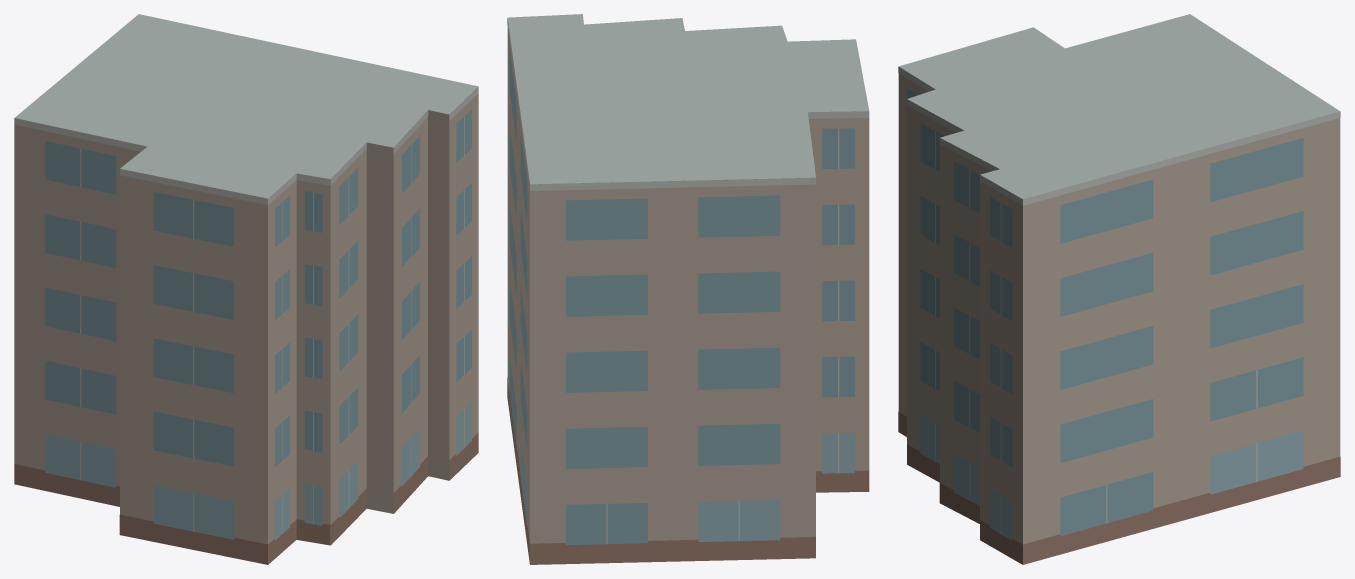
Rendered from survey-upis-32884971.glb.
3 views of the same model, side by side, from view 1: azimuth 30°, elevation 25°; view 2: azimuth 150°, elevation 25°; view 3: azimuth 270°, elevation 25° (orthographic). The views are drawn at different scales.
Visible parts, largest first — view 1: survey-upis-32884971.tmp; view 2: survey-upis-32884971.tmp; view 3: survey-upis-32884971.tmp.
Boxes of the visible parts, x1=… form: survey-upis-32884971.tmp: x1=14, y1=14, x2=478, y2=564; survey-upis-32884971.tmp: x1=507, y1=14, x2=869, y2=564; survey-upis-32884971.tmp: x1=898, y1=14, x2=1340, y2=564.
Size of the model in its own units: 15.02 by 13.8 by 15.13.
